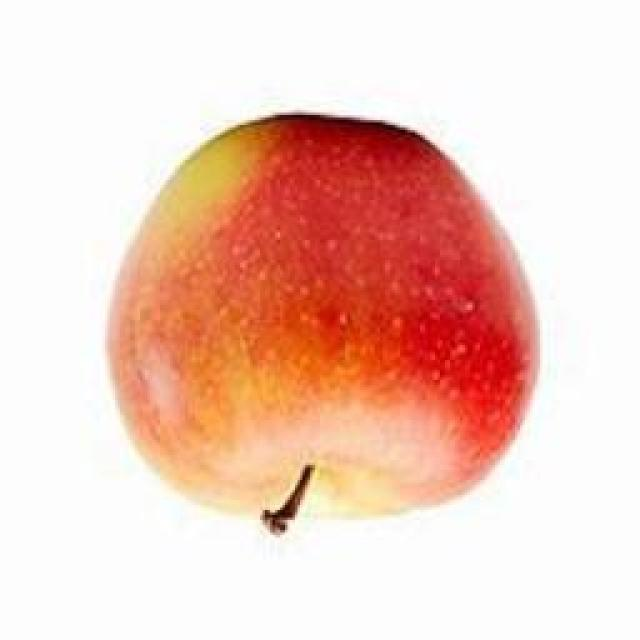apple: (105, 110, 541, 534)
